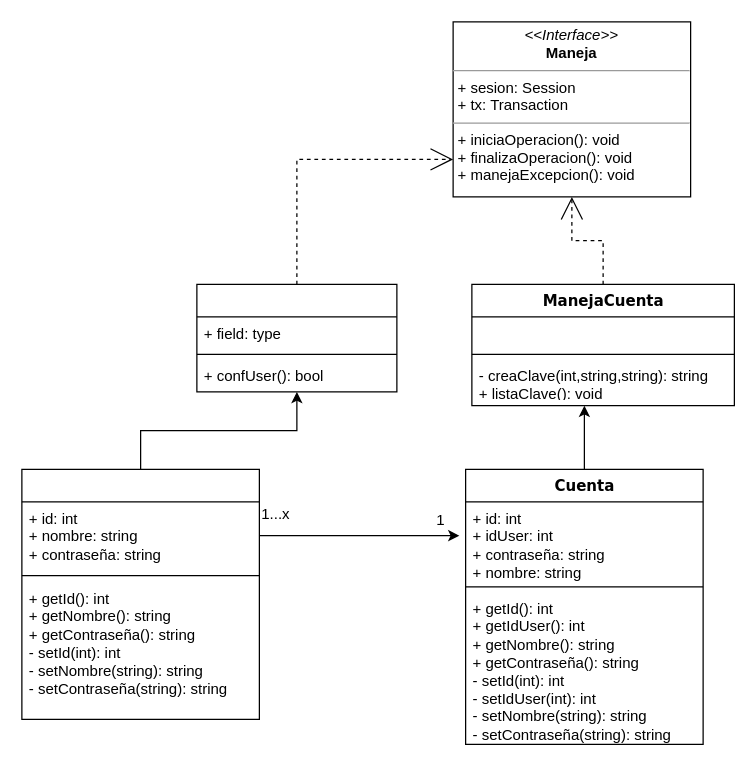
Some shapes in this 756 by 770 pixel diagram are drawn without their labels. Here are the shapes that lost their labels. From the top down, the box of each, then its label:
(196, 283, 397, 392): ManejaUsuario
(21, 468, 259, 719): Usuario
